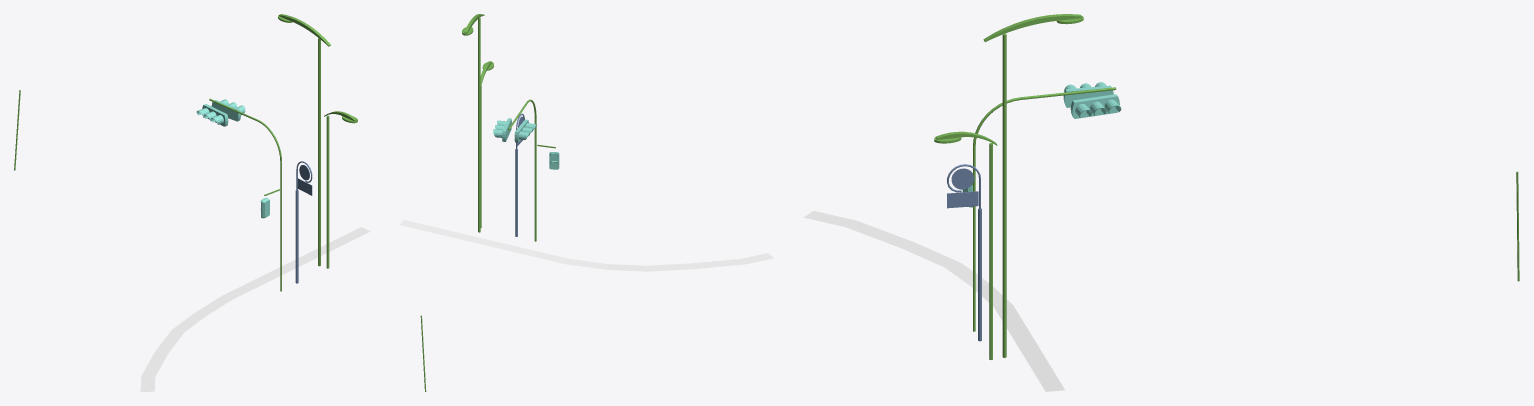
The model's file is data163.glb.
3 renders of one model, left to right at view 1: azimuth 30°, elevation 25°; view 2: azimuth 150°, elevation 25°; view 3: azimuth 270°, elevation 25°, orthographic. The views are drawn at different scales.
Size of the model in its own units: 12.75 by 9.91 by 17.85.
